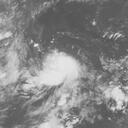cyclone: (34, 49, 87, 103)
